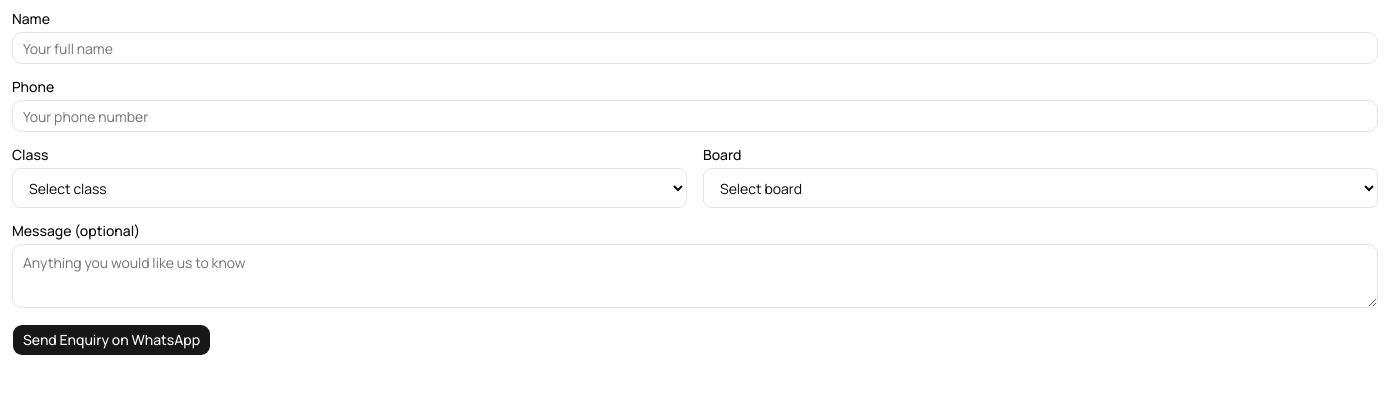
it: AdmissionsForm › validates phone length
Type "Asha" into the field labelled "Name" at (695, 48), box [12,32,1378,64]
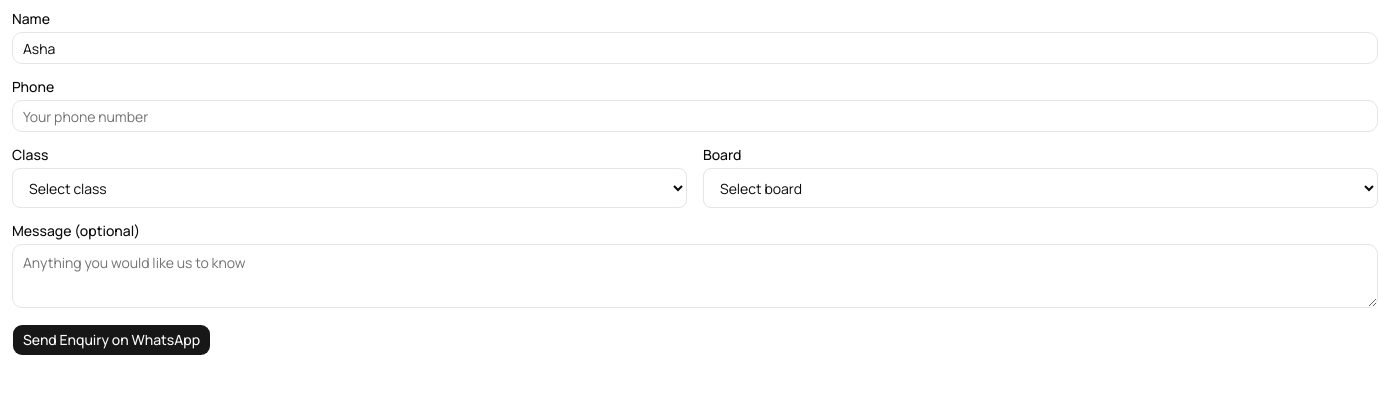
Type "123" into the field labelled "Phone" at (695, 116), box [12,100,1378,132]
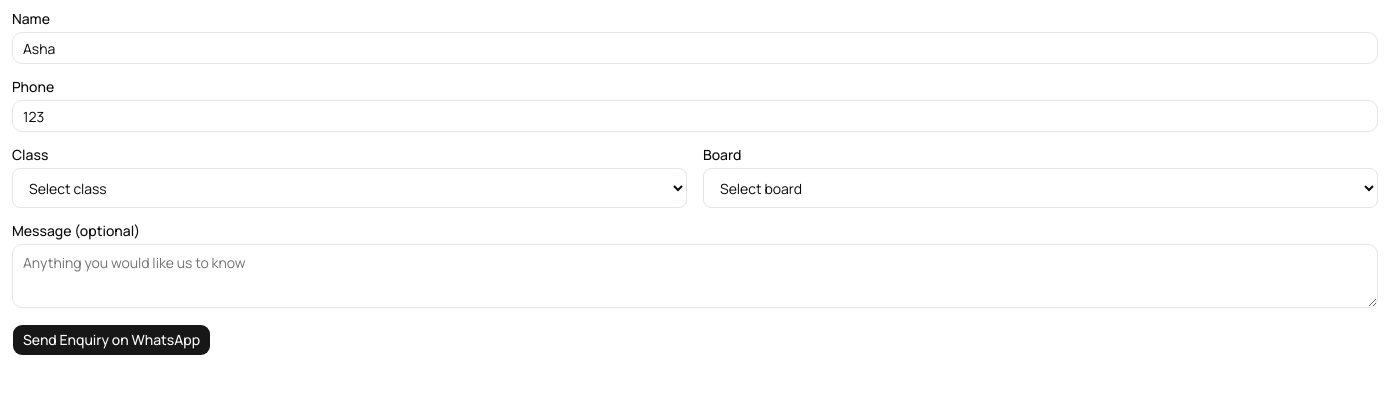
Select "Class X" in the dropdown labelled "Class" at (350, 188), box [12,168,687,208]
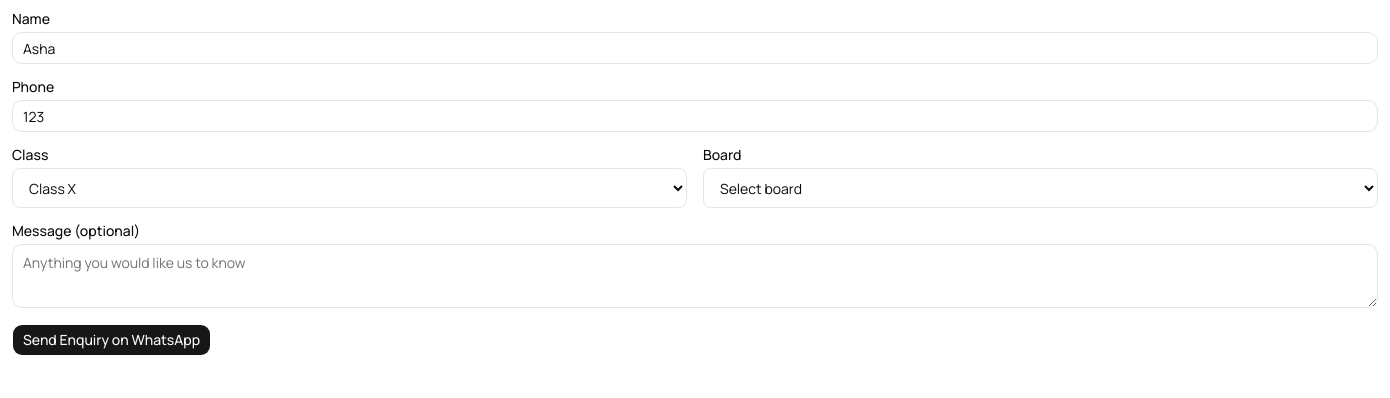
Select "CBSE" in the dropdown labelled "Board" at (1040, 188), box [703,168,1378,208]
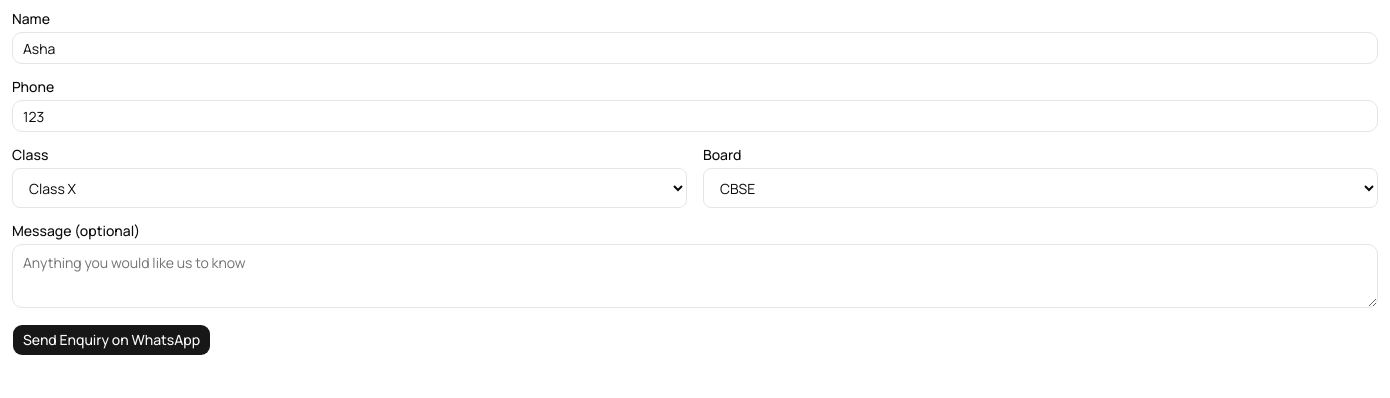
Click the button "Send Enquiry on WhatsApp" at (112, 340), box [12,324,211,356]
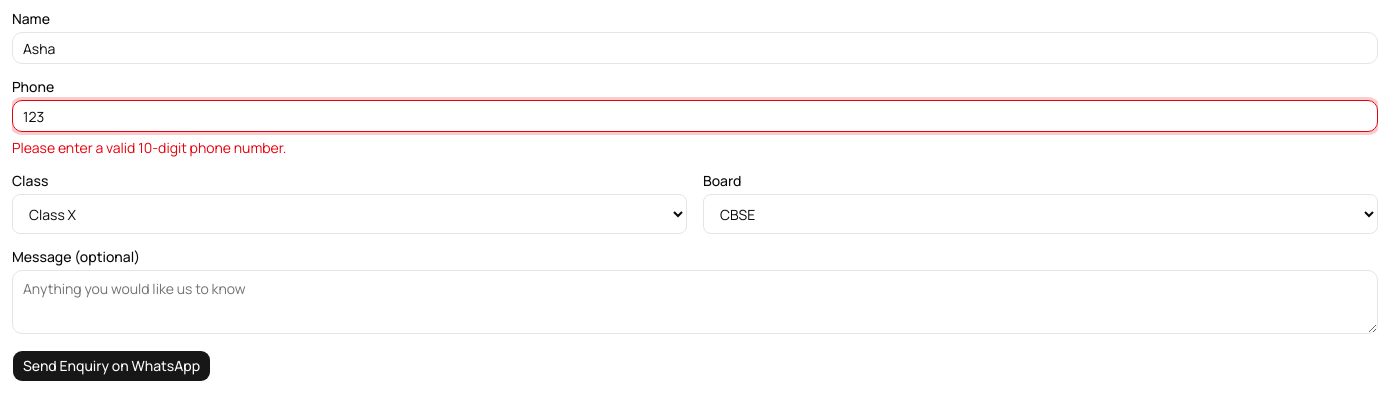
Expected: the text "Please enter a valid 10-digit phone number." is shown, [12,138,286,157]
